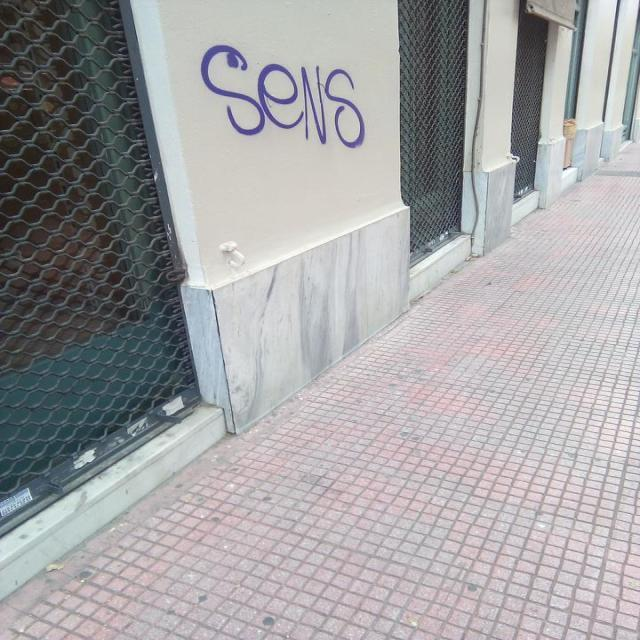nonspitting: (199, 44, 366, 150)
